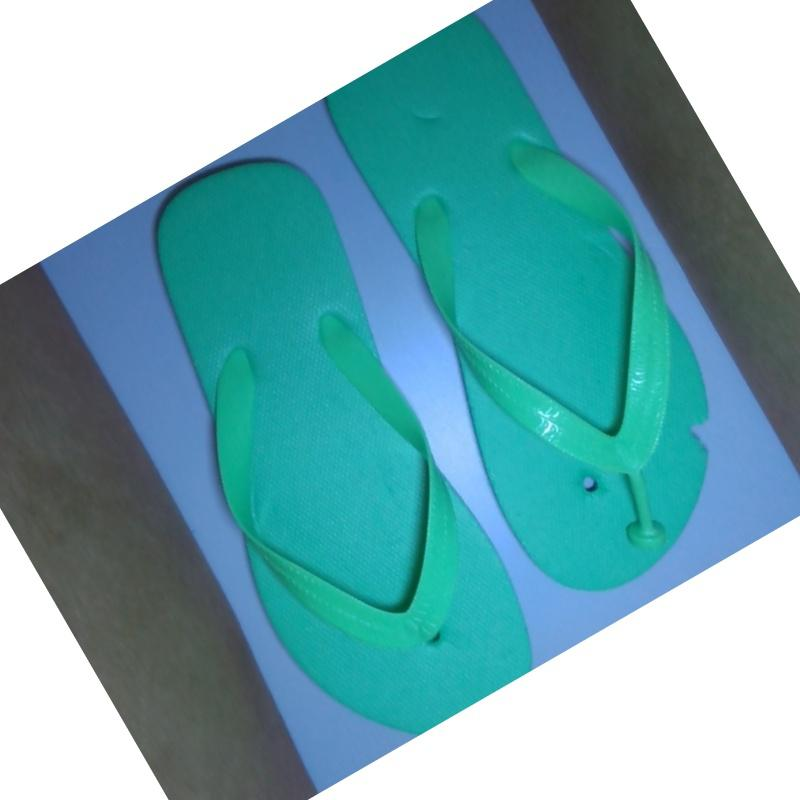chipped: (681, 403, 727, 470)
detached: (613, 497, 672, 555)
